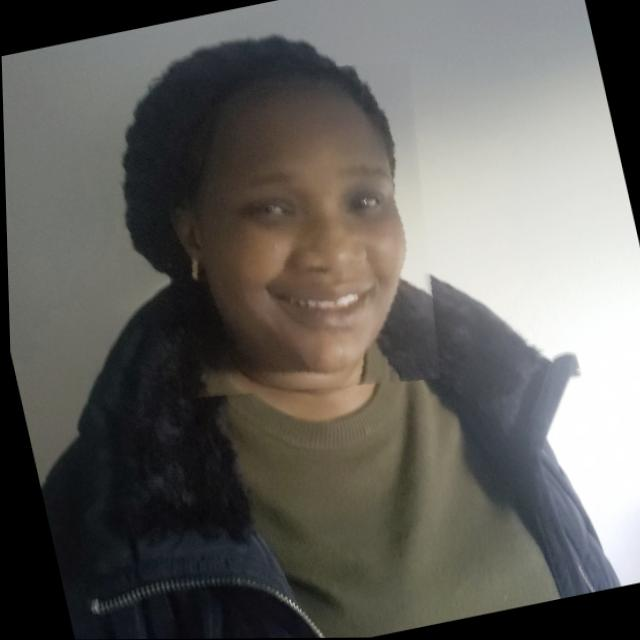happy: (121, 39, 467, 421)
